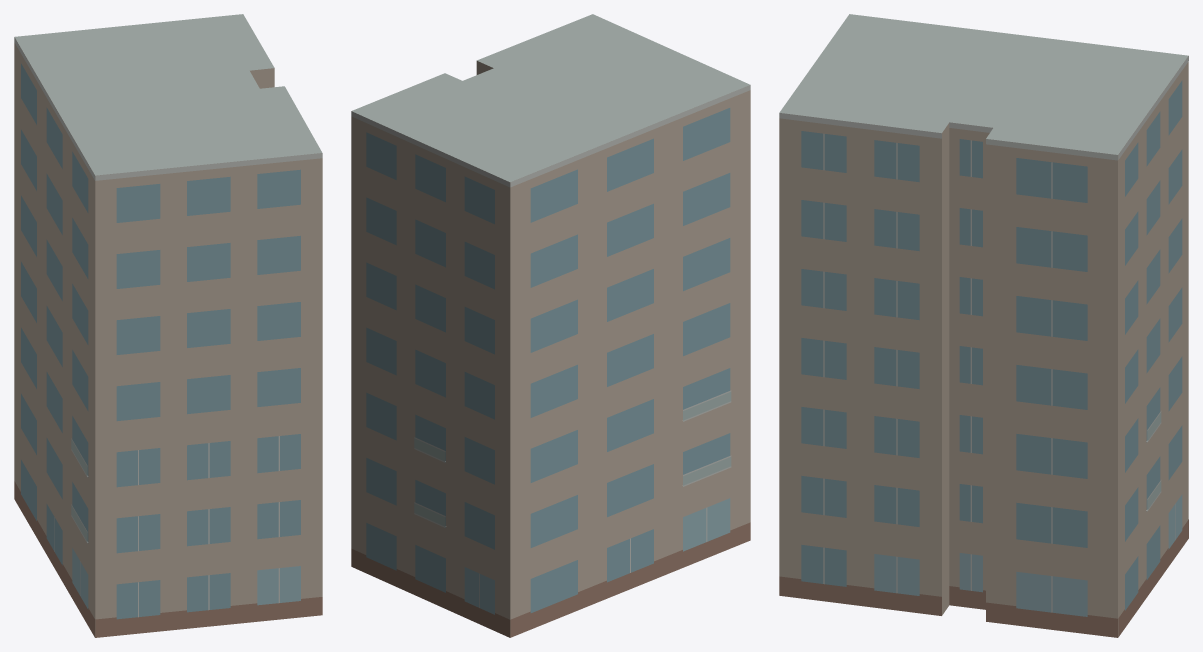
The model's file is survey-upis-32875321.glb.
The picture shows the model from 3 angles, left to right: view 1: azimuth 30°, elevation 25°; view 2: azimuth 150°, elevation 25°; view 3: azimuth 270°, elevation 25°; orthographic projection. The views are drawn at different scales.
Visible parts, largest first — view 1: survey-upis-32875321.tmp; view 2: survey-upis-32875321.tmp; view 3: survey-upis-32875321.tmp.
Part boxes in pixels (left/top/right/bottom): survey-upis-32875321.tmp: left=14, top=14, right=322, bottom=637; survey-upis-32875321.tmp: left=351, top=14, right=750, bottom=637; survey-upis-32875321.tmp: left=779, top=14, right=1188, bottom=637.
Size of the model in its own units: 13.38 by 21.35 by 16.42.
